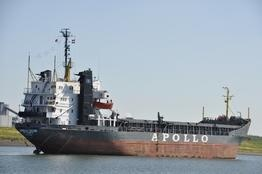Cargoship: (13, 27, 251, 159)
